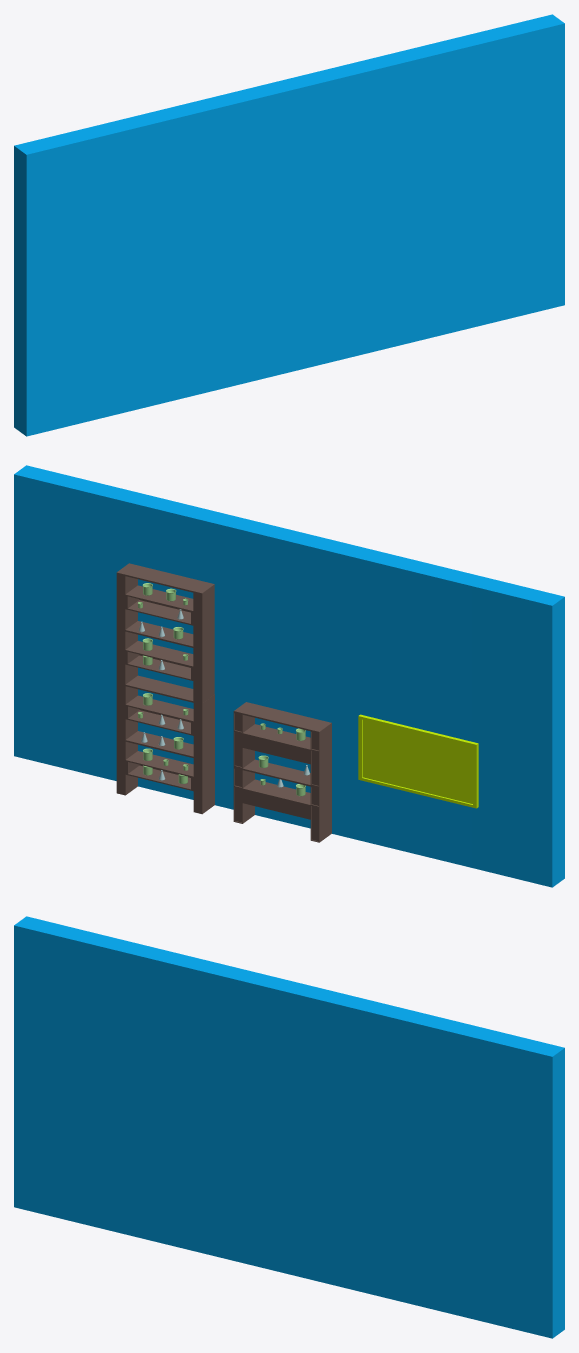
Rendered from BigRoomWallVariation3.fbx.
The picture shows the model from 3 angles, top to bottom: view 1: azimuth 30°, elevation 25°; view 2: azimuth 150°, elevation 25°; view 3: azimuth 330°, elevation 25°; orthographic projection.
Visible parts, largest first — view 1: Wall; view 2: Wall, Billboard, Cube.078, Cube.077, Cube.079, Cube.081, Cube.076, Cube.080; view 3: Wall.
Boxes of the visible parts, x1,y1,x2,y2 form: Wall: [14, 14, 564, 436]; Wall: [14, 465, 564, 887]; Billboard: [358, 714, 478, 808]; Cube.078: [233, 702, 331, 787]; Cube.077: [116, 563, 214, 648]; Cube.079: [233, 759, 331, 842]; Cube.081: [116, 675, 214, 758]; Cube.076: [116, 621, 214, 703]; Cube.080: [116, 731, 214, 814]; Wall: [14, 916, 564, 1338].
Bounding box in the file's own units: 100 × 50 × 8.04.
